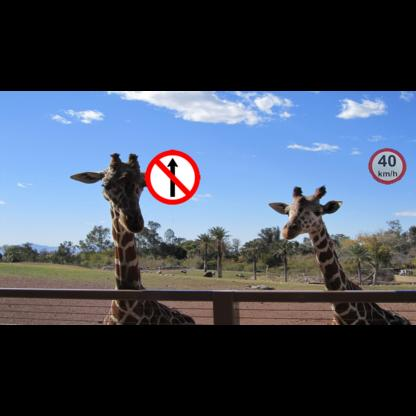R-19: (368, 148, 406, 184)
R-3: (145, 150, 200, 205)
